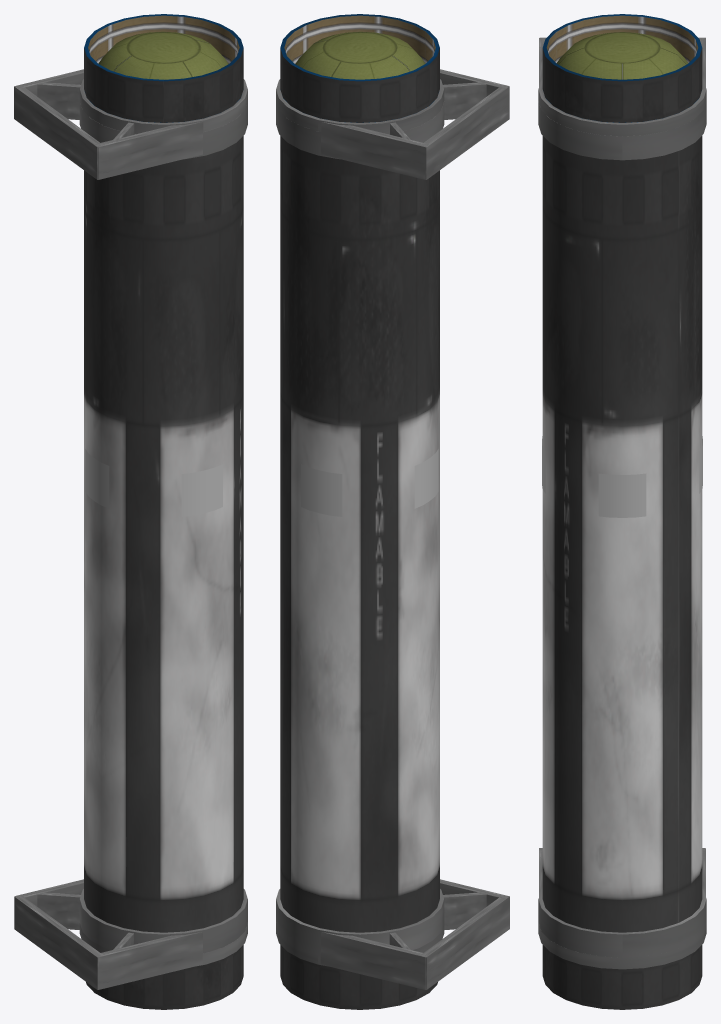
File: FLM-1800S.FBX
3 renders of one model, left to right at view 1: azimuth 30°, elevation 25°; view 2: azimuth 150°, elevation 25°; view 3: azimuth 270°, elevation 25°, orthographic.
Parts seen in each view (by area): view 1: TankBody, TankSleeve001, TankSleeve002, EndCap001, Box006, Box007, Box011, Box003, MountingBracketBand002, BarrelBand003, decalPanel001, MountingBracketBand001 (+6 smaller); view 2: TankBody, TankSleeve001, TankSleeve002, EndCap001, Box001, Box010, Box003, Box011, MountingBracketBand002, BarrelBand003, decalPanel003, MountingBracketBand001 (+6 smaller); view 3: TankBody, TankSleeve001, TankSleeve002, EndCap001, MountingBracketBand002, MountingBracketBand001, BarrelBand003, decalPanel002, BarrelBand002.
Part boxes in pixels (<box>): TankBody: <box>84,136,243,932</box>; TankSleeve001: <box>84,14,243,122</box>; TankSleeve002: <box>86,945,243,1009</box>; EndCap001: <box>90,31,240,122</box>; Box006: <box>94,122,203,179</box>; Box007: <box>98,932,202,989</box>; Box011: <box>14,895,103,989</box>; Box003: <box>14,86,99,179</box>; MountingBracketBand002: <box>79,889,247,953</box>; BarrelBand003: <box>79,79,247,134</box>; decalPanel001: <box>181,464,222,516</box>; MountingBracketBand001: <box>79,101,247,159</box>; TankBody: <box>280,136,439,932</box>; TankSleeve001: <box>280,14,439,122</box>; TankSleeve002: <box>280,945,437,1009</box>; EndCap001: <box>283,31,433,122</box>; Box001: <box>321,122,429,179</box>; Box010: <box>320,932,425,989</box>; Box003: <box>421,86,509,179</box>; Box011: <box>420,896,509,989</box>; MountingBracketBand002: <box>276,889,444,953</box>; BarrelBand003: <box>276,79,444,133</box>; decalPanel003: <box>301,464,342,516</box>; MountingBracketBand001: <box>276,101,444,159</box>; TankBody: <box>542,135,702,932</box>; TankSleeve001: <box>542,14,702,122</box>; TankSleeve002: <box>542,945,702,1009</box>; EndCap001: <box>546,32,698,122</box>; MountingBracketBand002: <box>538,889,706,957</box>; MountingBracketBand001: <box>538,101,706,160</box>; BarrelBand003: <box>538,79,706,136</box>; decalPanel002: <box>598,473,646,517</box>; BarrelBand002: <box>538,922,706,969</box>.
Size of what is drawn, in the model's own units: 0.8152 by 0.6564 by 4.
